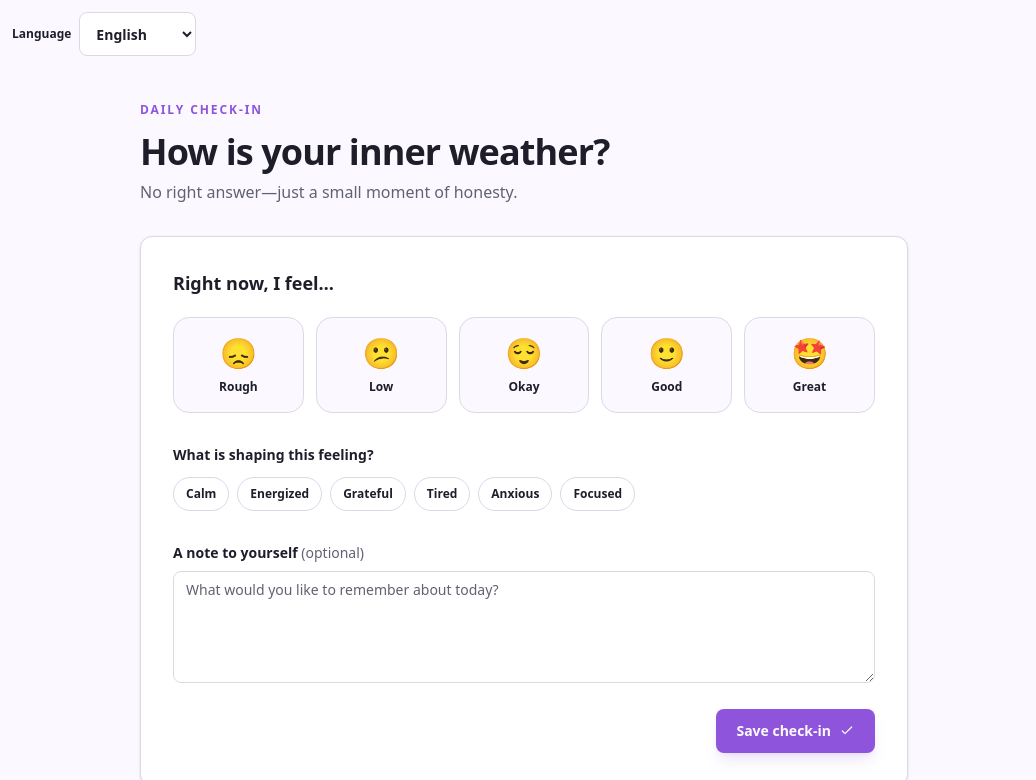
localization › switches accessible labels and persists the preference without losing entered text or API tag values
Expected: the heading "How is your inner weather?" is shown, [140,127,609,176]
Type "My private note" into the text box at (524, 627), box [173,571,875,683]
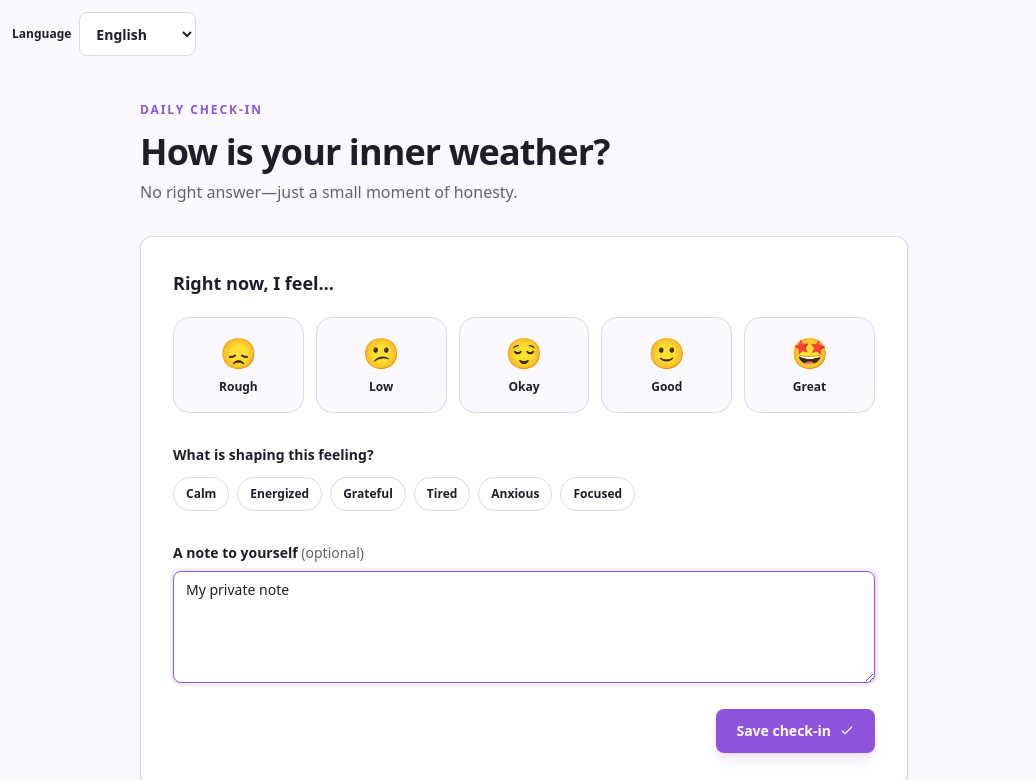
Click the button "🙂 Good" at (667, 365), box [601,317,732,413]
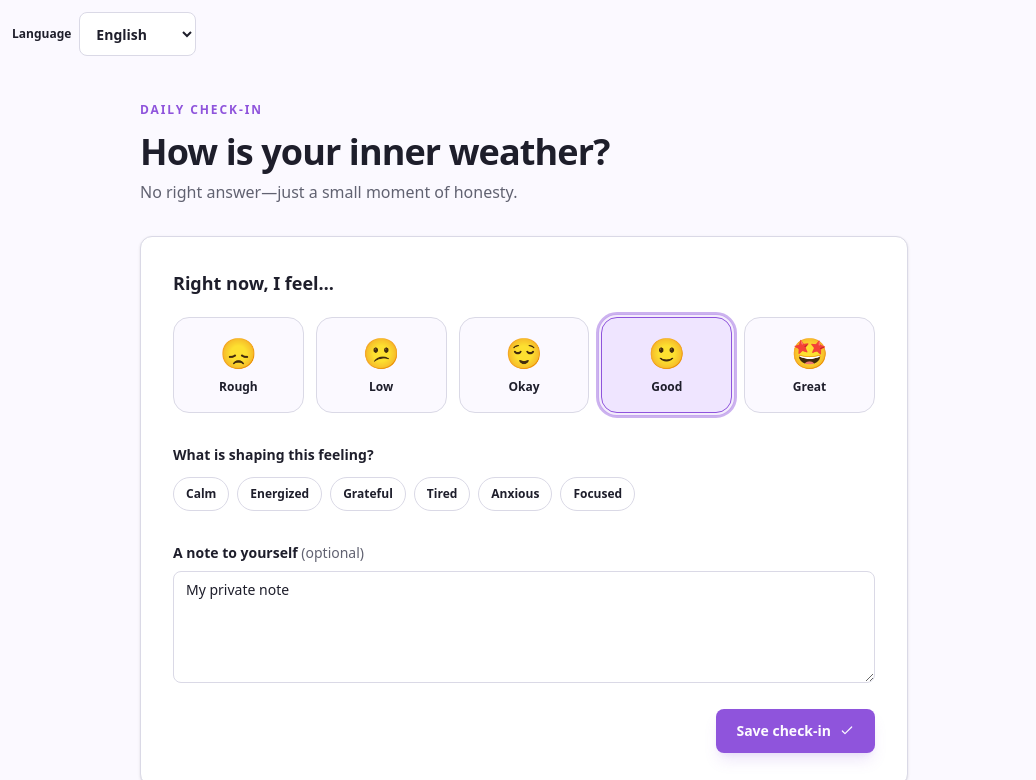
Click the button "Calm" at (201, 494), box [173,477,229,511]
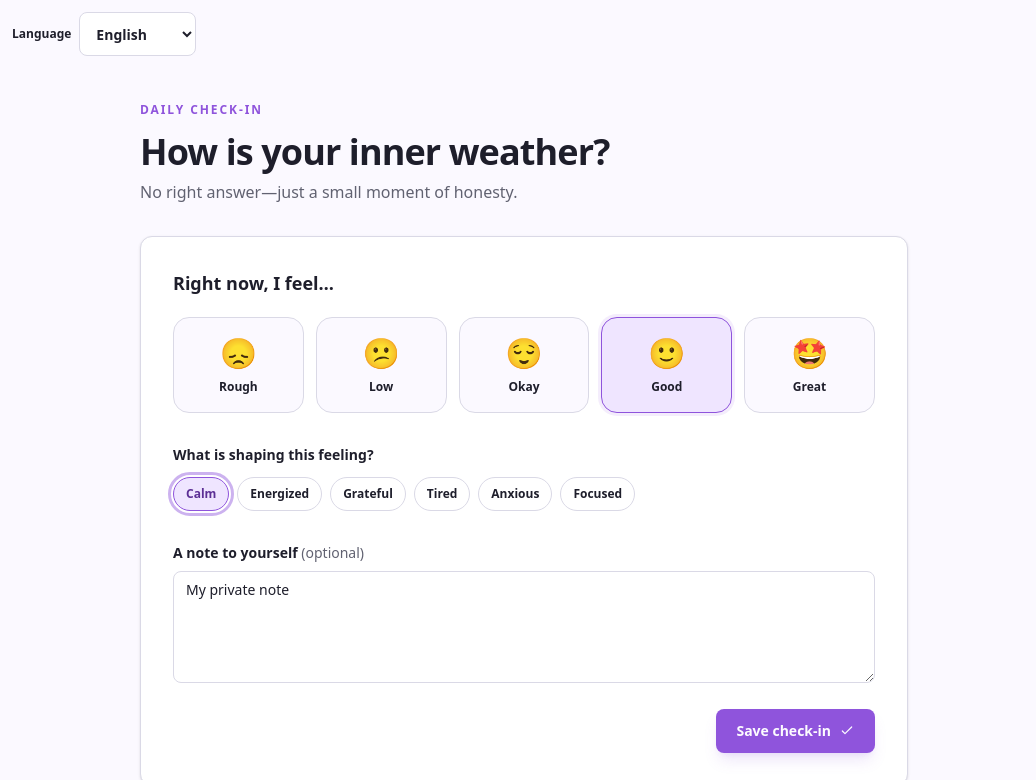
Select "Tiếng Việt" in the dropdown labelled "Language" at (138, 34), box [79,12,196,56]
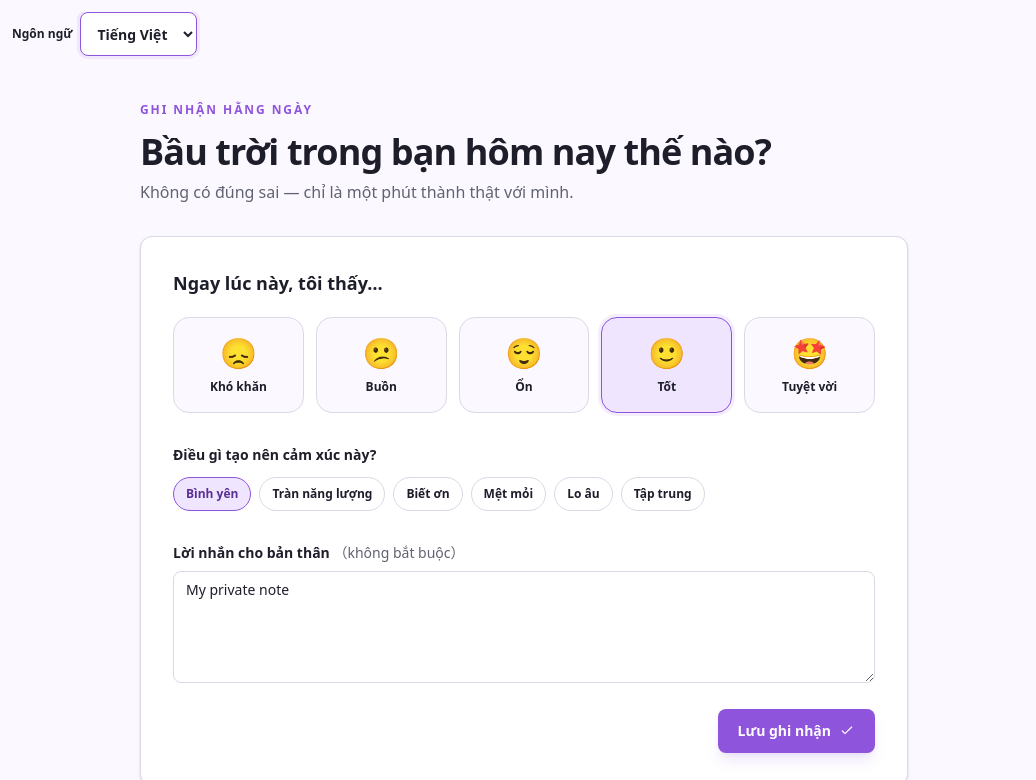
Now the heading "Bầu trời trong bạn hôm nay thế nào?" is shown, box [140,127,771,176]
Click the button "Lưu ghi nhận" at (796, 731), box [718,709,875,753]
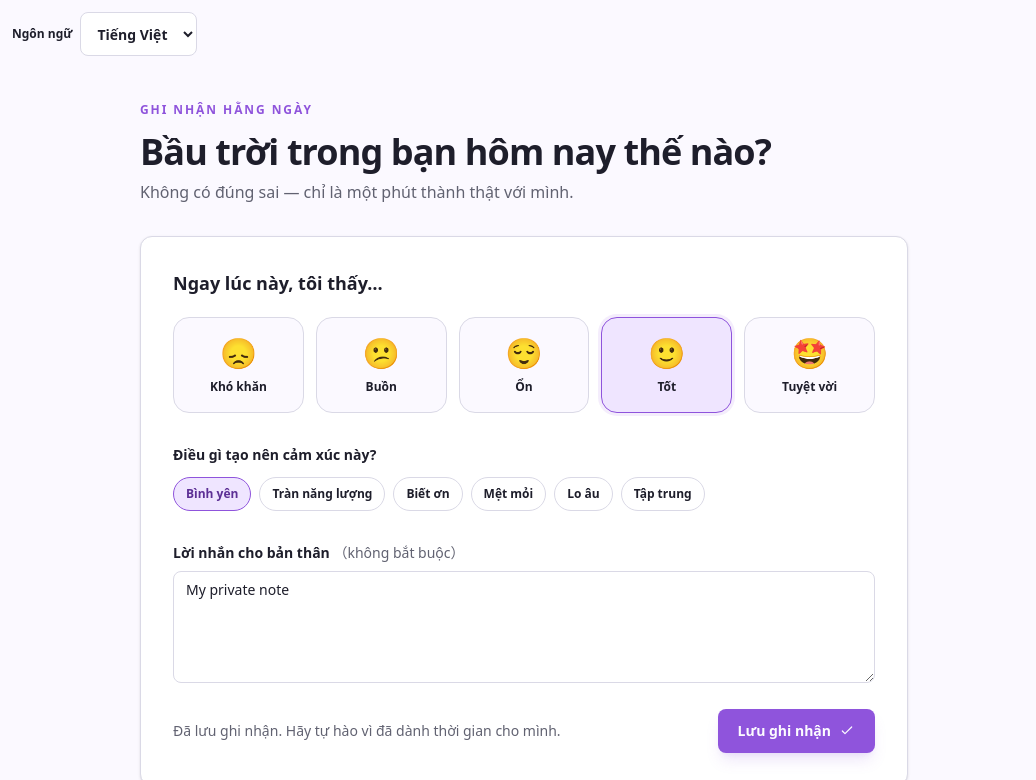
Now the text "Đã lưu ghi nhận. Hãy tự hào vì đã dành thời gian cho mình." is shown, box [173,721,561,741]
Select "English" in the dropdown labelled "Ngôn ngữ" at (139, 34), box [80,12,197,56]
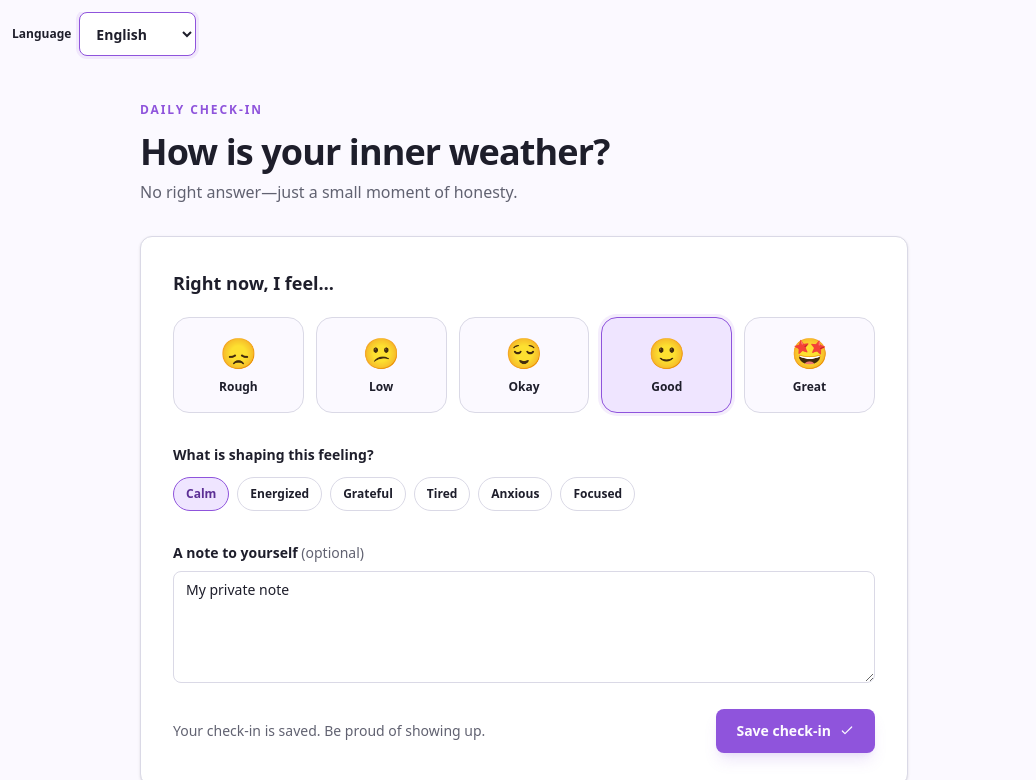
Now the text "Your check-in is saved. Be proud of showing up." is shown, box [173,721,485,741]
